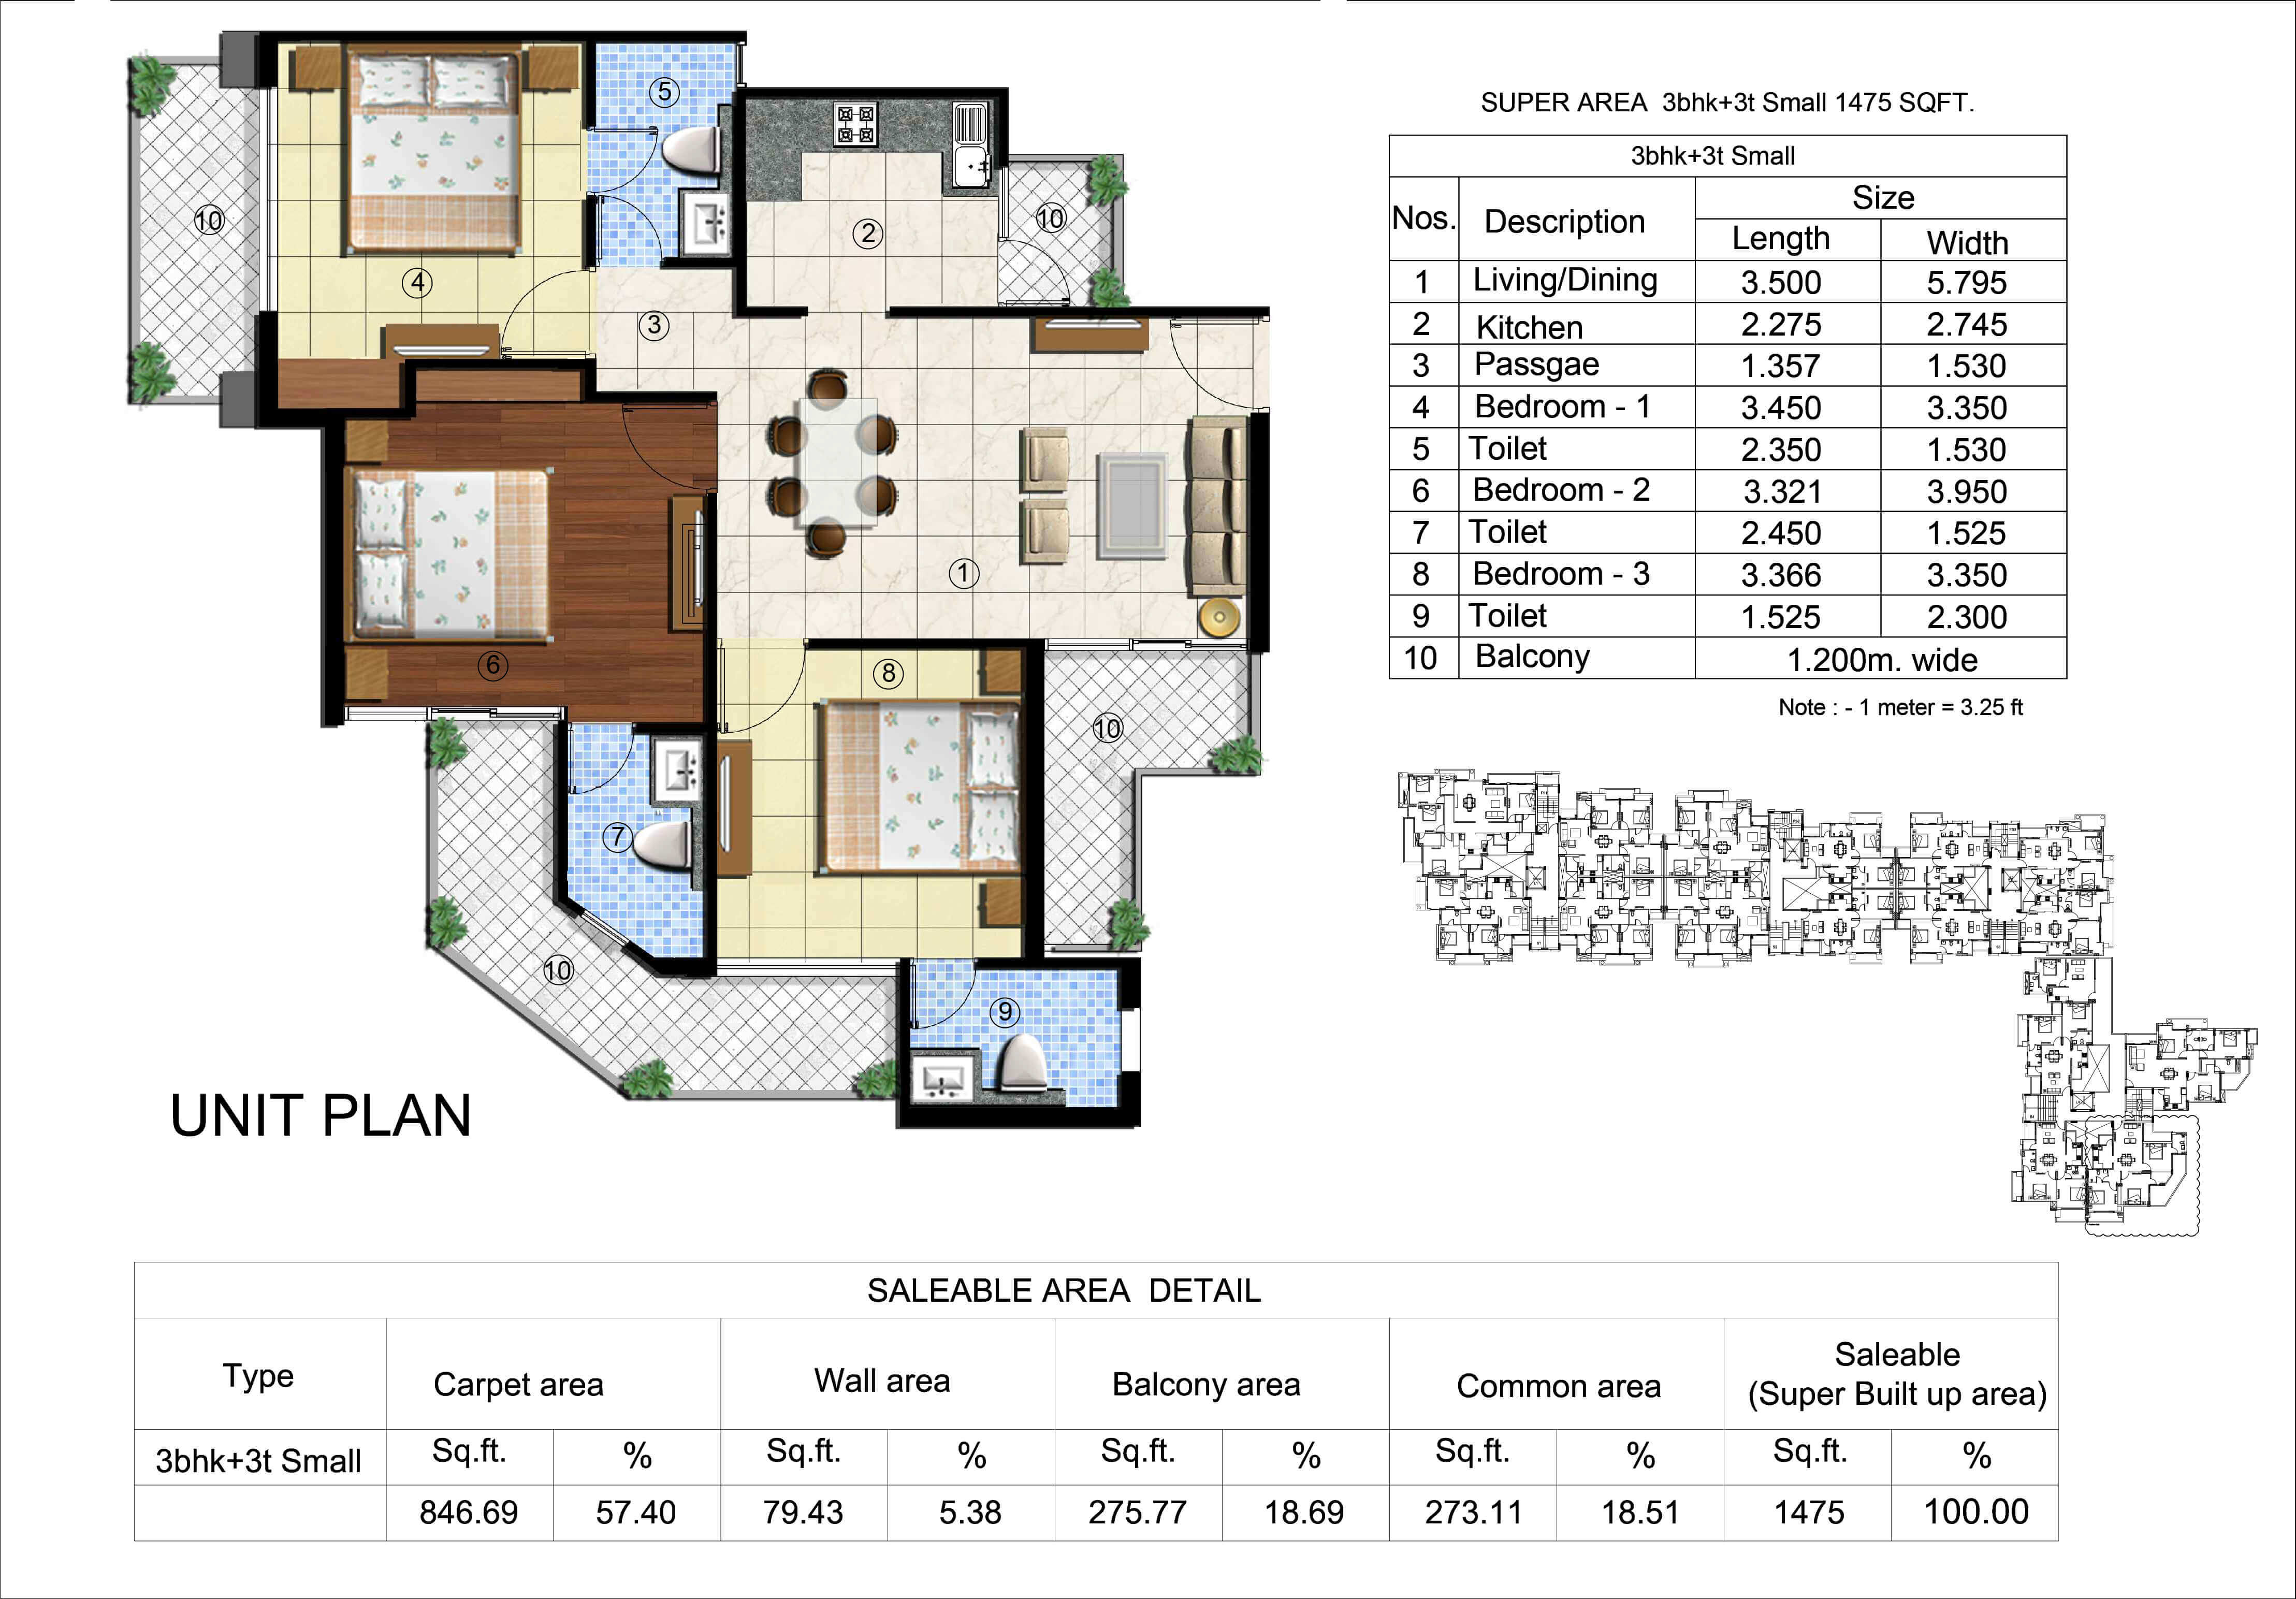door: (1165, 317, 1263, 412), (618, 403, 712, 492), (717, 645, 811, 734), (501, 269, 593, 357), (911, 964, 975, 1025)
